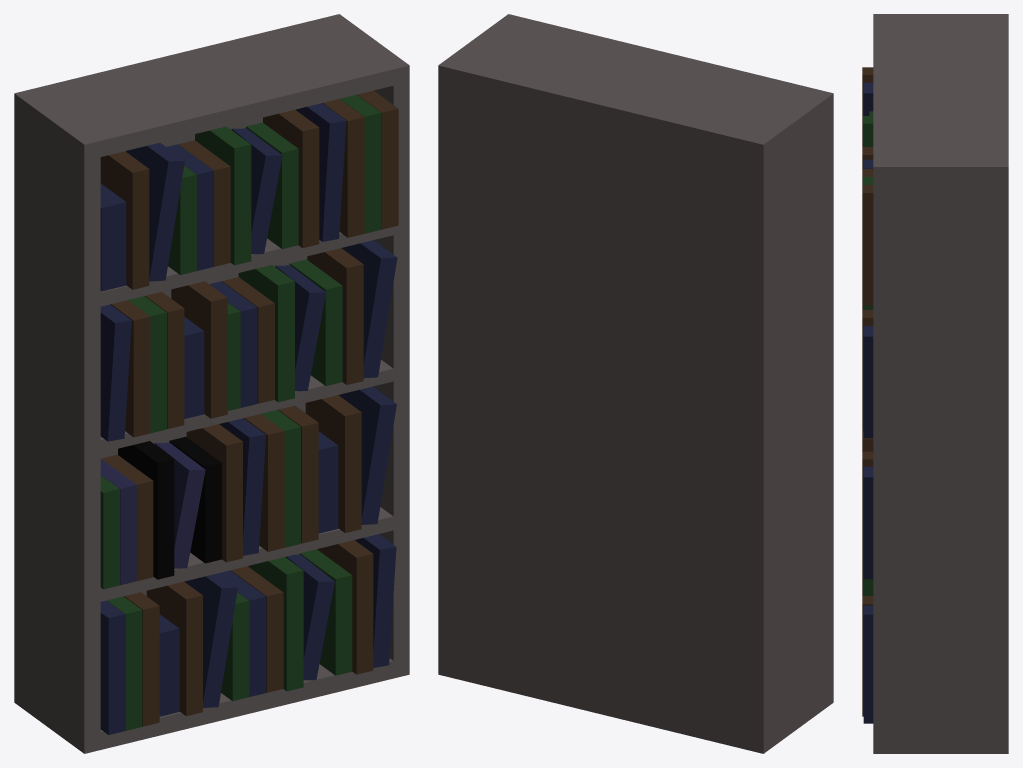
File: tallbookshelf.fbx
3 renders of one model, left to right at view 1: azimuth 30°, elevation 25°; view 2: azimuth 150°, elevation 25°; view 3: azimuth 270°, elevation 25°, orthographic. The views are drawn at different scales.
Parts seen in each view (by area): view 1: pCube54, pCube69, pCube78, pCube109, pCube19, pCube108, pCube70, pCube71, pCube102, pCube61, pCube111, pCube20 (+45 smaller); view 2: pCube54; view 3: pCube54, pCube67, pCube56, pCube70, pCube102, pCube101, pCube69, pCube108, pCube55, pCube111, pCube109, pCube115.
Part boxes in pixels (x1=…): pCube54: x1=14, y1=14, x2=409, y2=753; pCube69: x1=305, y1=395, x2=361, y2=532; pCube78: x1=171, y1=281, x2=227, y2=418; pCube109: x1=100, y1=151, x2=149, y2=289; pCube19: x1=146, y1=581, x2=202, y2=716; pCube108: x1=126, y1=142, x2=184, y2=281; pCube70: x1=338, y1=386, x2=396, y2=524; pCube71: x1=100, y1=304, x2=131, y2=441; pCube102: x1=342, y1=240, x2=397, y2=378; pCube61: x1=118, y1=441, x2=174, y2=579; pCube111: x1=195, y1=126, x2=251, y2=265; pCube20: x1=184, y1=573, x2=237, y2=707; pCube54: x1=438, y1=14, x2=833, y2=753; pCube54: x1=873, y1=14, x2=1008, y2=753; pCube67: x1=862, y1=185, x2=873, y2=305; pCube56: x1=863, y1=605, x2=873, y2=723; pCube70: x1=863, y1=466, x2=873, y2=579; pCube102: x1=863, y1=326, x2=873, y2=438; pCube101: x1=862, y1=310, x2=873, y2=430; pCube69: x1=862, y1=451, x2=873, y2=571; pCube108: x1=863, y1=82, x2=873, y2=115; pCube55: x1=862, y1=596, x2=873, y2=716; pCube111: x1=863, y1=116, x2=873, y2=146; pCube109: x1=862, y1=67, x2=873, y2=146; pCube115: x1=862, y1=147, x2=873, y2=267.
Size of the model in its own units: 5.54 by 9.91 by 2.24.
